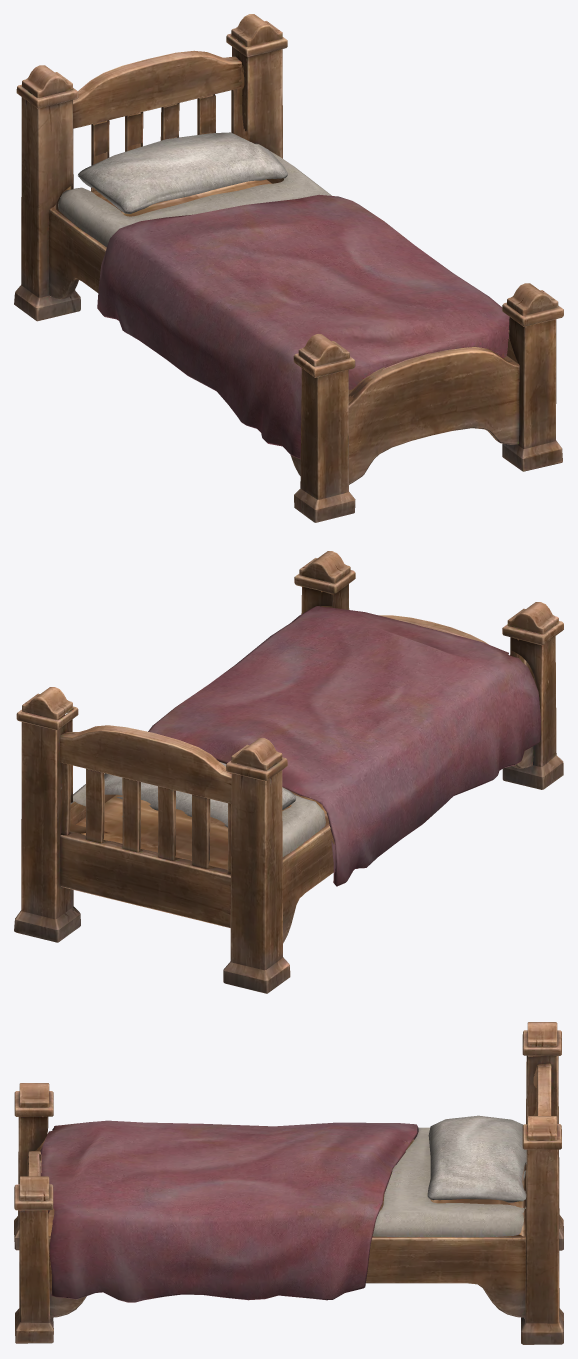
3 renders of one model, top to bottom at view 1: azimuth 30°, elevation 25°; view 2: azimuth 150°, elevation 25°; view 3: azimuth 270°, elevation 25°, orthographic. The views are drawn at different scales.
Visible parts, largest first — view 1: SM_Bed_01v2_LOD0; view 2: SM_Bed_01v2_LOD0; view 3: SM_Bed_01v2_LOD0.
Boxes of the visible parts, bbox=[...] form: SM_Bed_01v2_LOD0: bbox=[14, 14, 563, 522]; SM_Bed_01v2_LOD0: bbox=[14, 551, 563, 993]; SM_Bed_01v2_LOD0: bbox=[14, 1022, 563, 1344].
Size of the model in its own units: 1.07 by 0.9399 by 2.15.
1 material, 1 textured.
